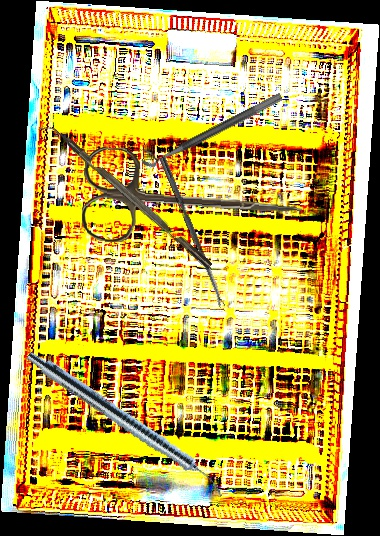Chopper: (37, 116, 213, 278)
Fixation Ring: (136, 81, 284, 171)
Handpiece: (21, 347, 232, 500)
Iris Scissors: (80, 146, 305, 252)
Surgical Spoon: (158, 156, 226, 309)
